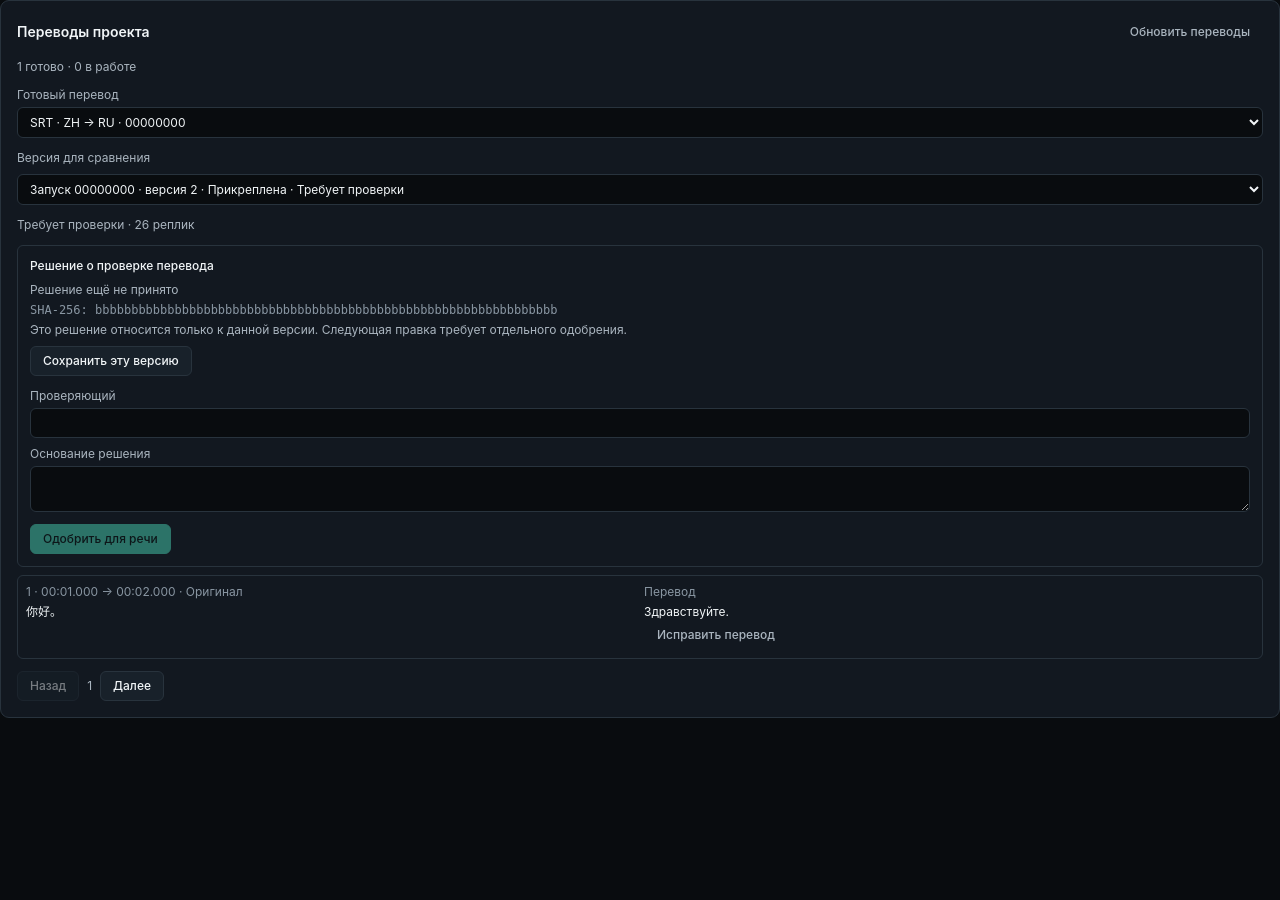
it: TranslationReview › keeps the preview and attachment separate after a stale-selection conflict
Expected: the text "Здравствуйте." is shown, [644,604,729,619]
Select "Запуск 00000000 · версия 1 · Требует проверки" in the dropdown labelled "Версия для сравнения" at x=640, y=190, box [17,174,1263,205]
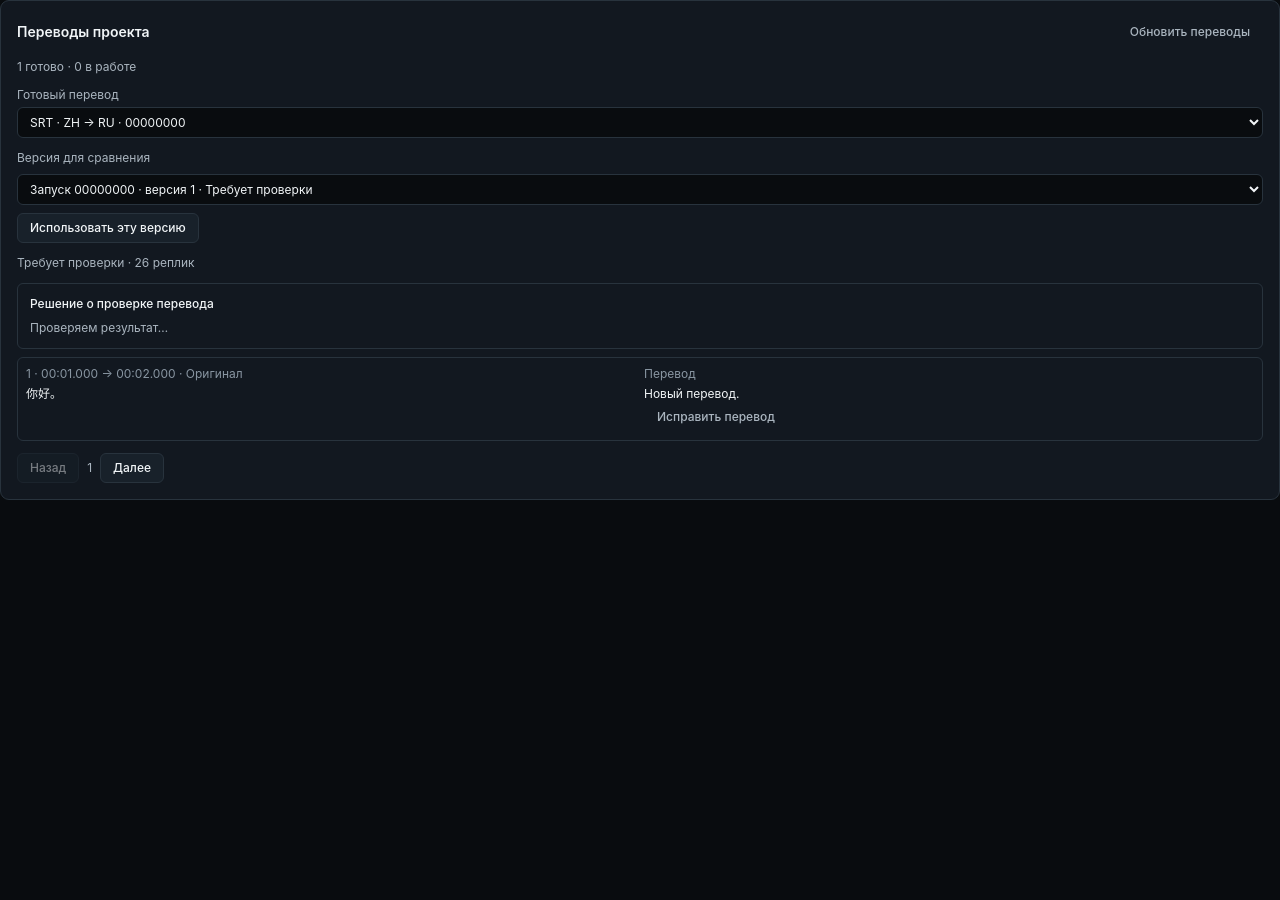
Result: the text "Новый перевод." is shown at [644,386,740,401]
Click the button "Использовать эту версию".
click(108, 228)  # box [17,213,199,243]
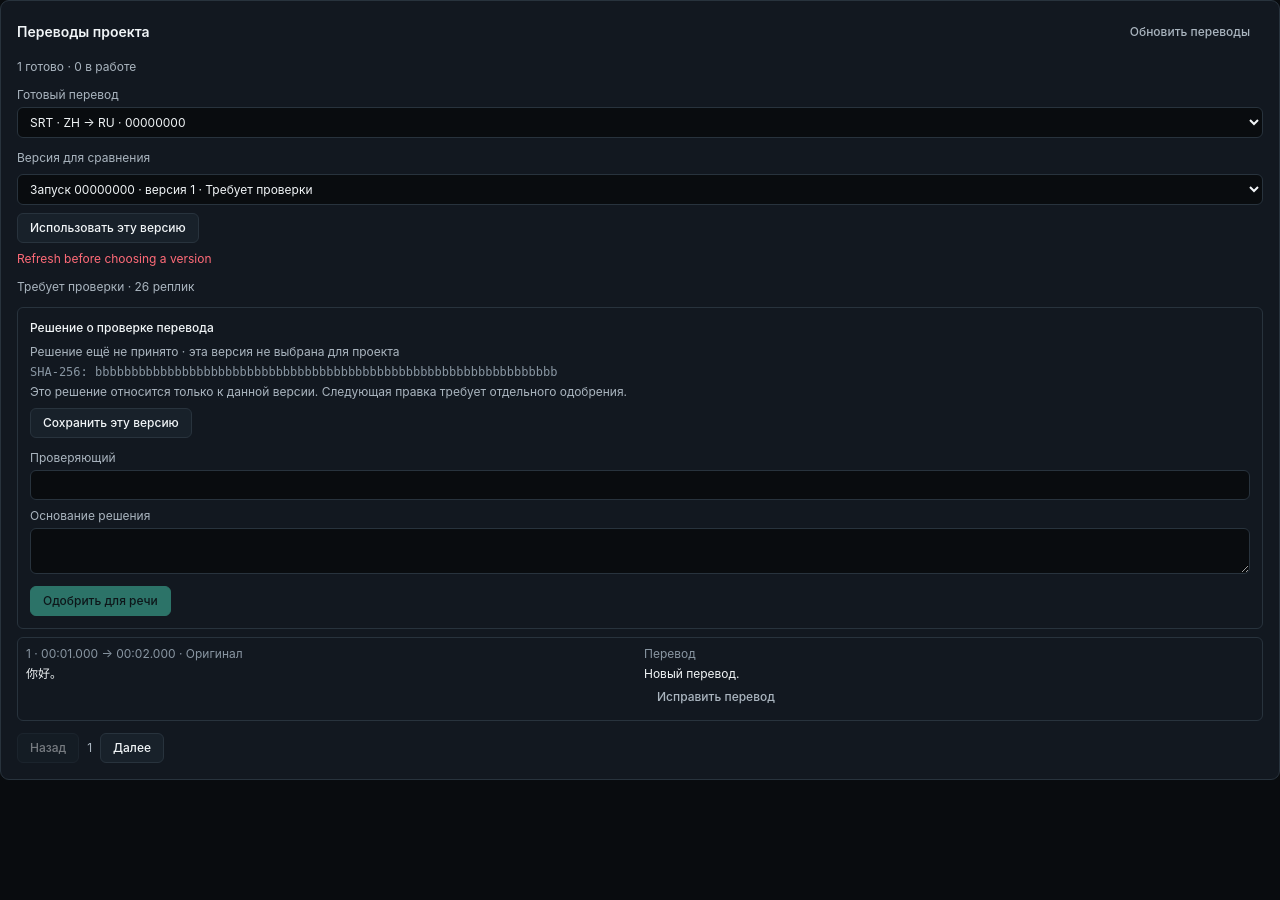
Result: the button "Использовать эту версию" is shown at [17,213,199,243]
Result: the text "Refresh before choosing a version" is shown at [17,251,212,266]
